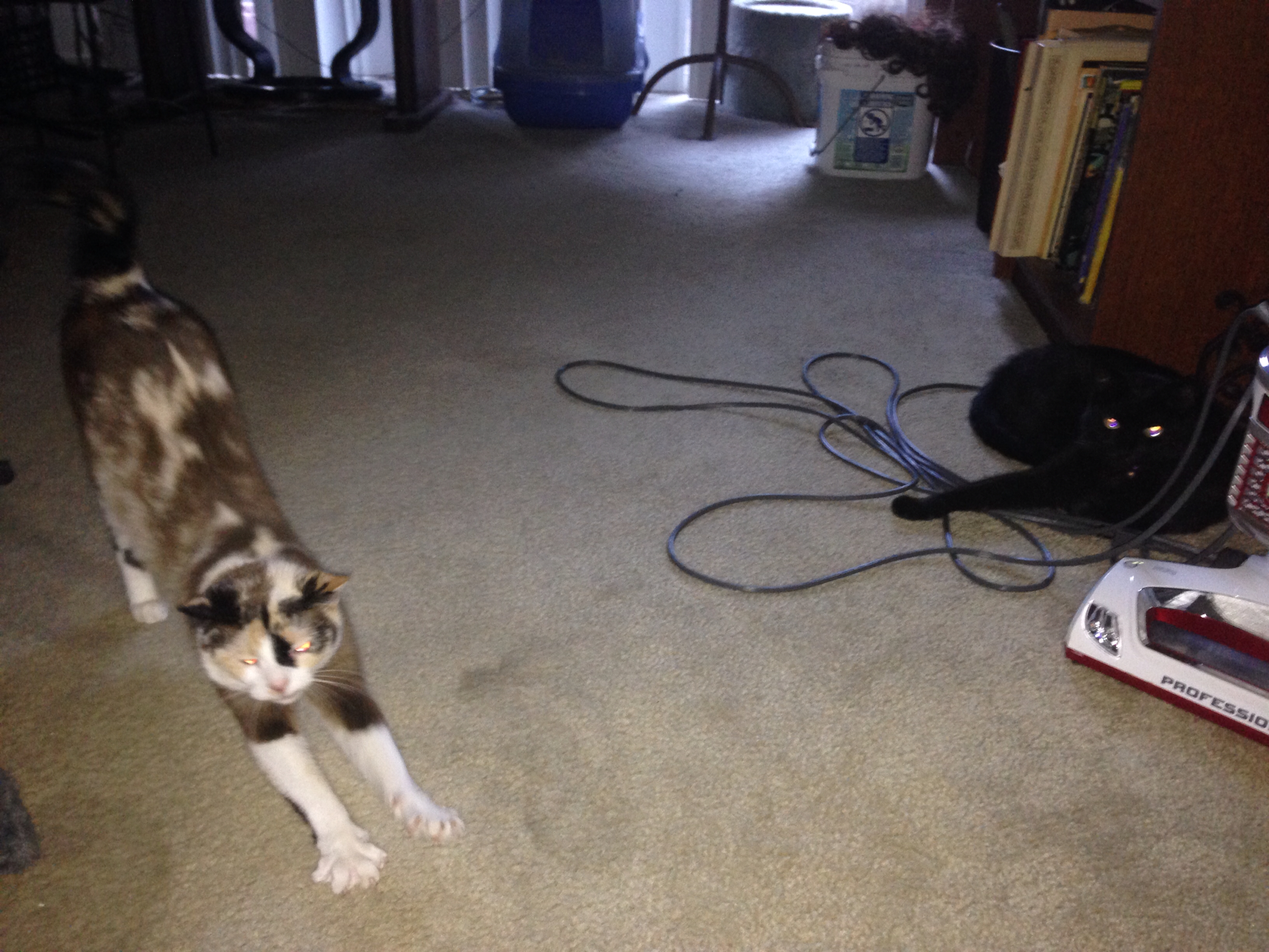cat: (63, 217, 467, 891)
